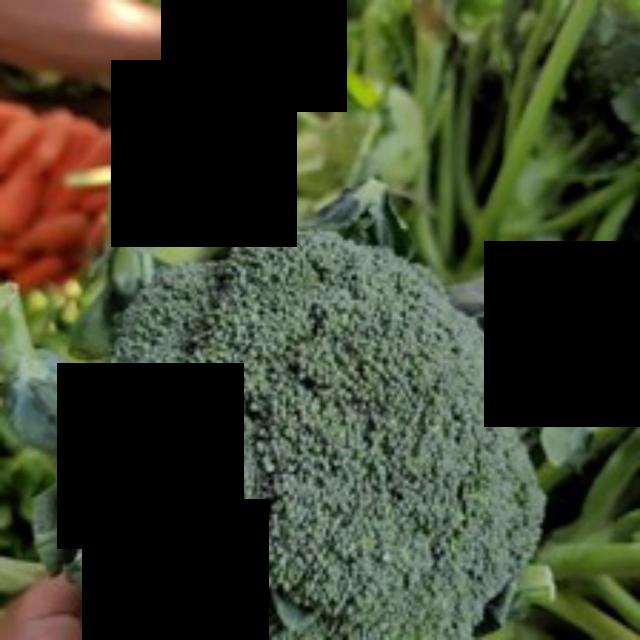broccoli: (83, 217, 548, 637)
